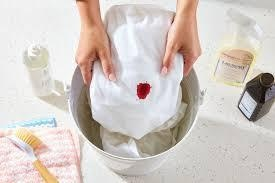blood: (135, 81, 152, 99)
